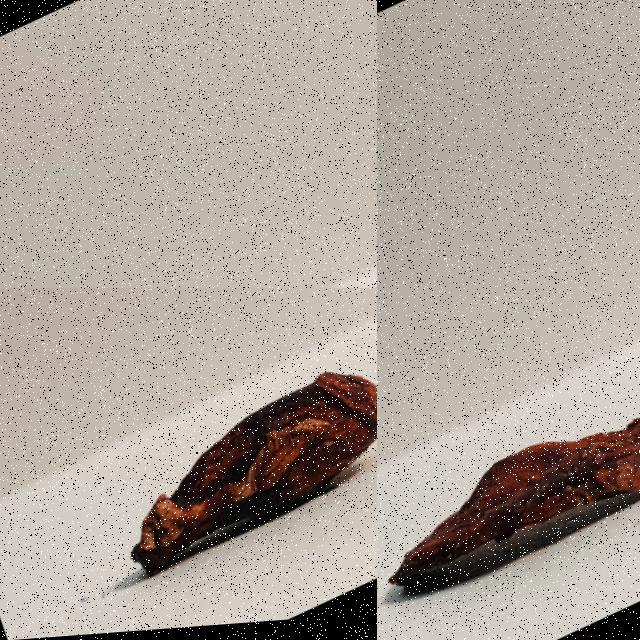Flat_cocoabeans: (47, 298, 376, 638), (377, 319, 639, 639)
